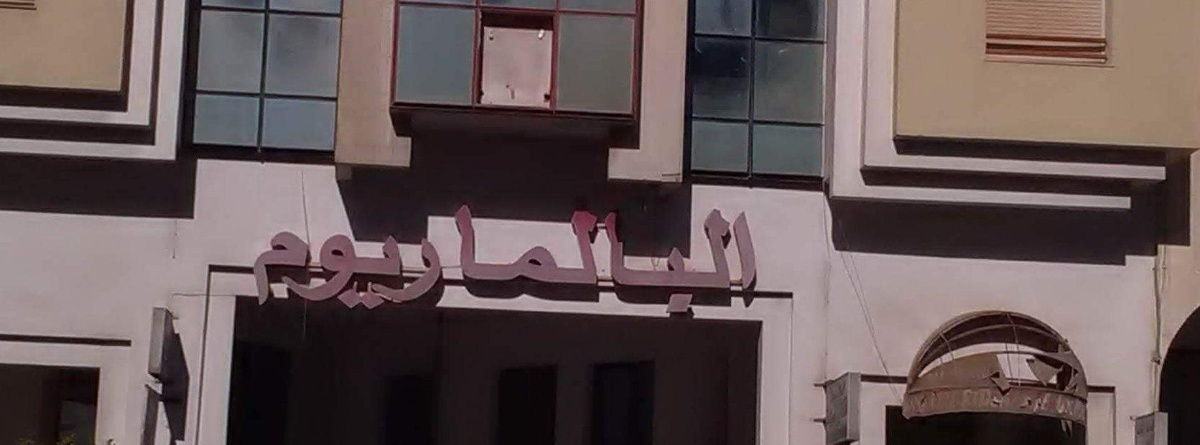text: (257, 200, 272, 321), (273, 200, 288, 321), (289, 200, 304, 321), (305, 200, 320, 321), (321, 200, 336, 321), (337, 200, 352, 321), (353, 200, 368, 321), (369, 200, 384, 321), (385, 200, 400, 321), (401, 200, 416, 321), (417, 200, 432, 321), (433, 200, 448, 321), (449, 200, 464, 321), (465, 200, 480, 321), (481, 200, 496, 321), (497, 200, 512, 321), (513, 200, 528, 321), (529, 200, 544, 321), (545, 200, 560, 321), (561, 200, 576, 321), (577, 200, 592, 321), (593, 200, 608, 321), (609, 200, 624, 321), (625, 200, 640, 321), (641, 200, 656, 321), (657, 200, 672, 321), (673, 200, 688, 321), (689, 200, 704, 321), (705, 200, 720, 321), (721, 200, 736, 321), (737, 200, 752, 321), (753, 200, 759, 321), (255, 200, 256, 321)
